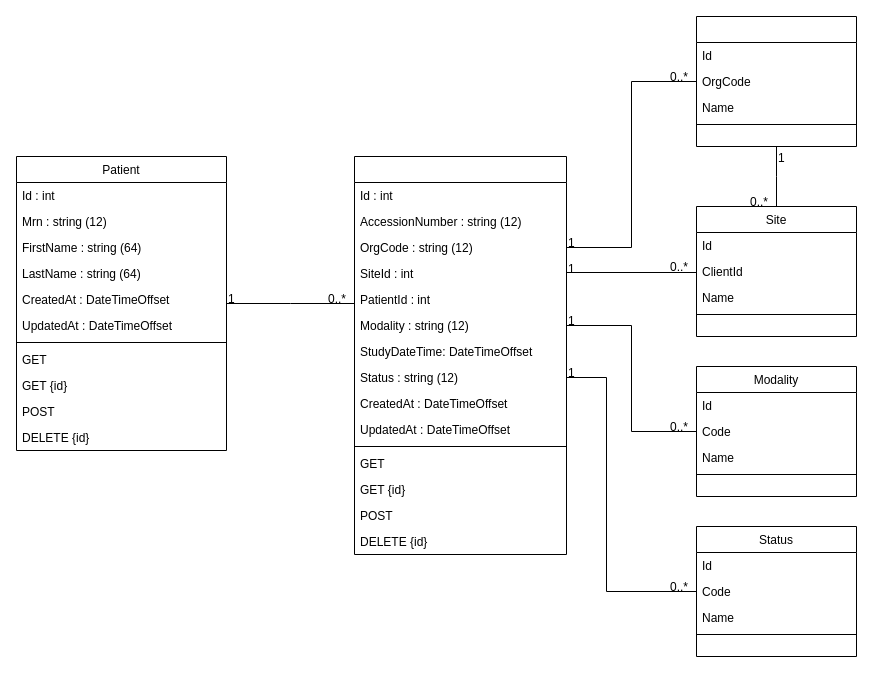
This 873x673 diagram has some shape labels left out. Here are the shapes that lost their labels. From the top down, the box of each, then its label:
(696, 16, 856, 146): Client
(354, 156, 566, 554): Order
